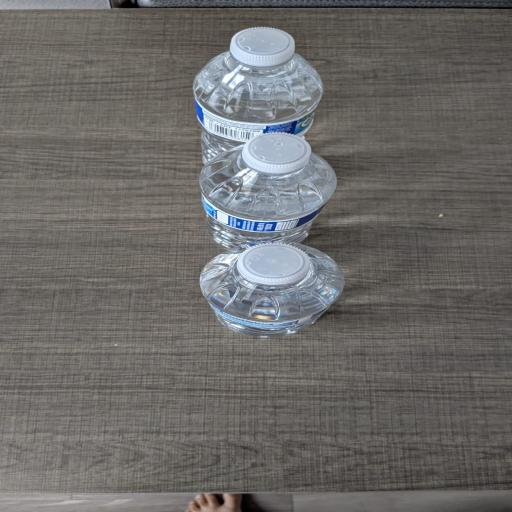waterbottle: (194, 28, 322, 163), (200, 134, 336, 247), (201, 242, 344, 336)
